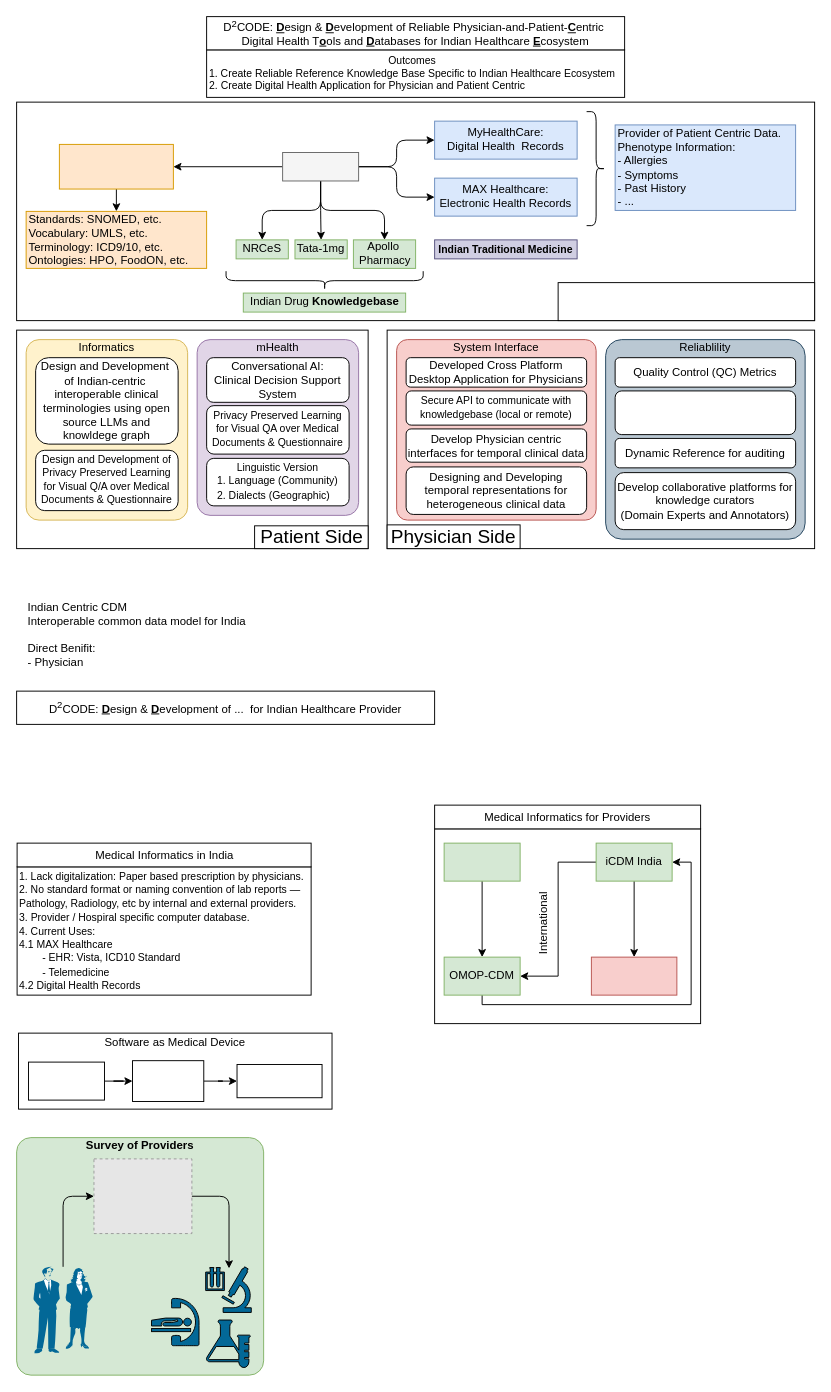
This 831x1392 diagram has some shape labels left out. Grey dashed boxes stand in for pictures. Here are the shapes that lost their labels. From the top down, the centre of each, then its label:
At (x=115, y=166): "International Medical Vocabularies and Ontologies".
At (x=320, y=166): "Source Database".
At (x=686, y=301): "Data to Knowledge".
At (x=705, y=412): "Parameter Effecient Large Language Models for Resource Constraint Environment".
At (x=481, y=861): "iCDM".
At (x=633, y=975): "Building Indian OMOP-CMD".
At (x=66, y=1080): "Provider's Documents".
At (x=168, y=1081): "PPFL Visual DocQA".
At (x=279, y=1081): "Interoperable Format".
